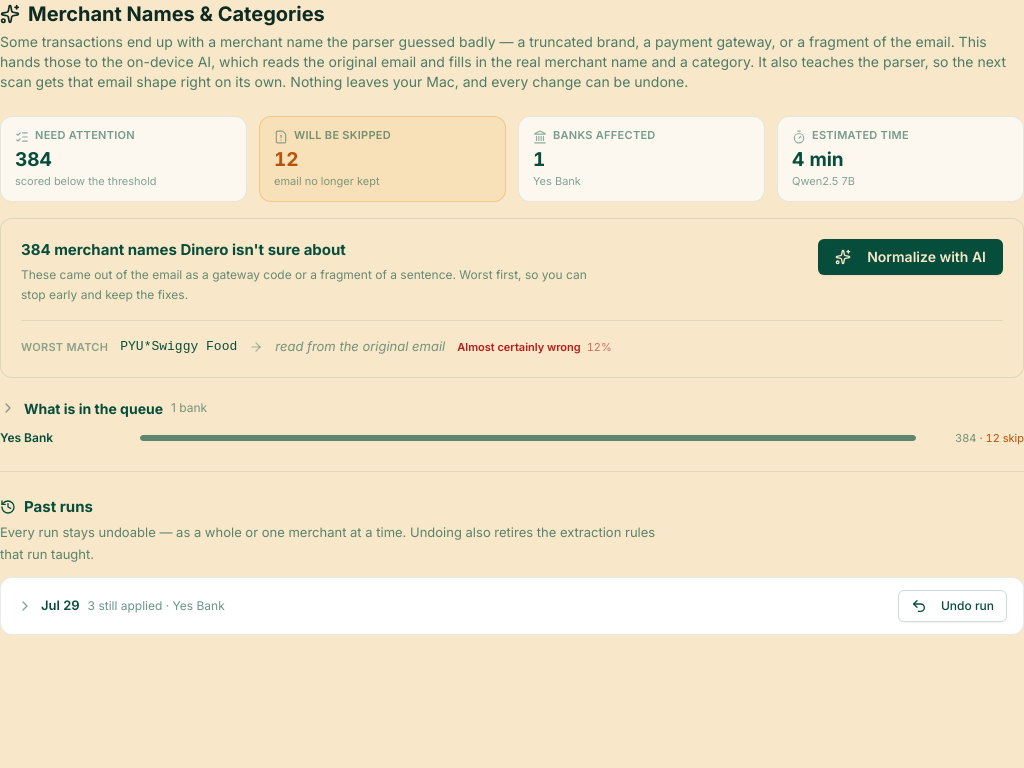
Test: MerchantCleanupSettings, idle › run history › surfaces an undo failure
Expected: the heading "384 merchant names Dinero isn't sure about" is shown, [21, 240, 346, 259]
Click the button "Undo run" at coordinates (952, 606), box [898, 590, 1007, 622]
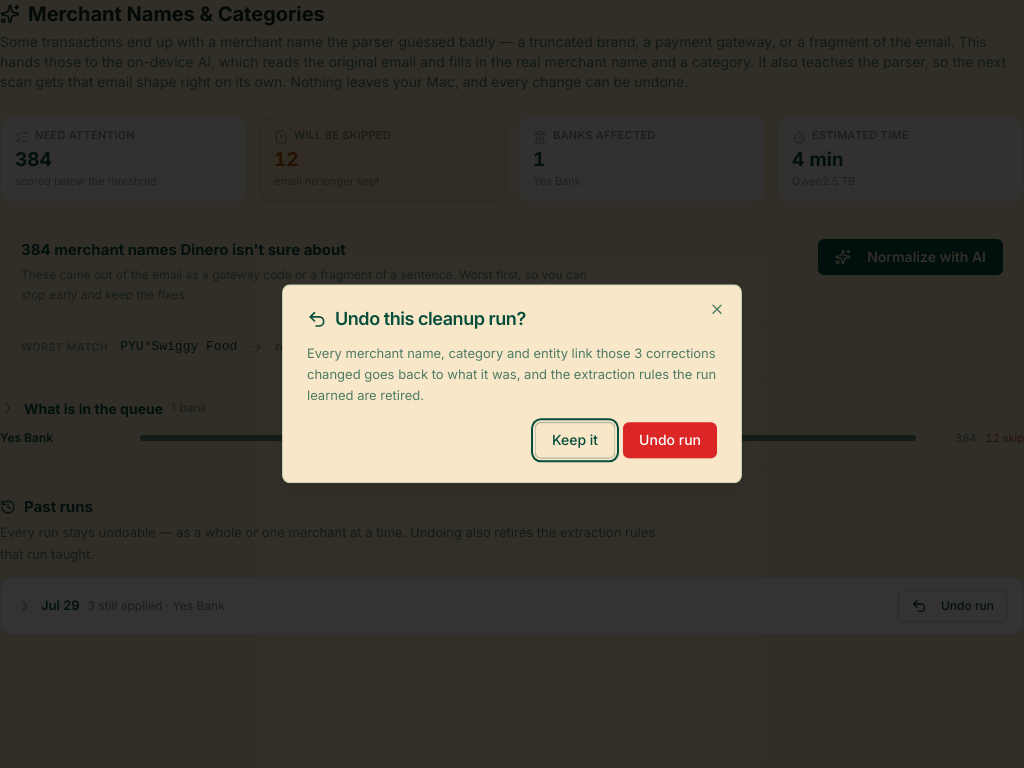
Click the button "Undo run" at coordinates (670, 441), box [623, 423, 717, 459]
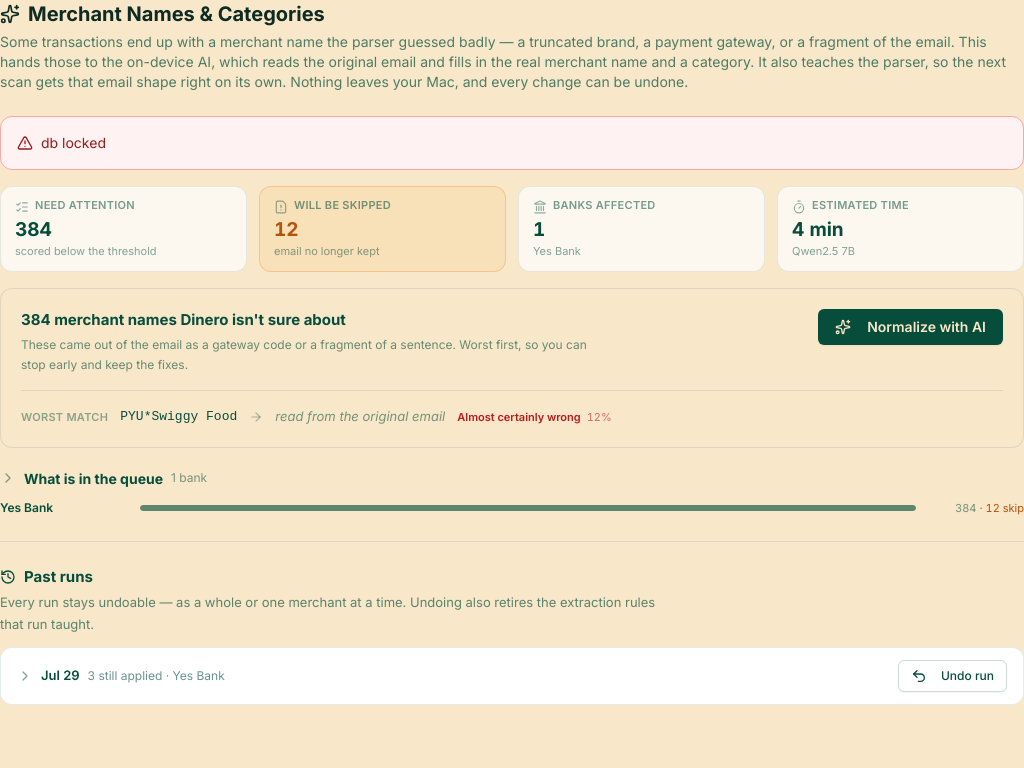
Result: the text "db locked" is shown at [41, 133, 106, 153]
